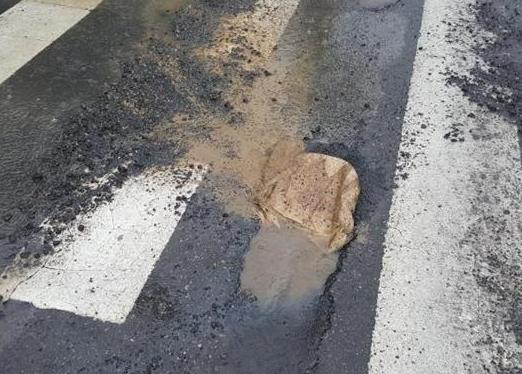pothole: (223, 129, 377, 316)
